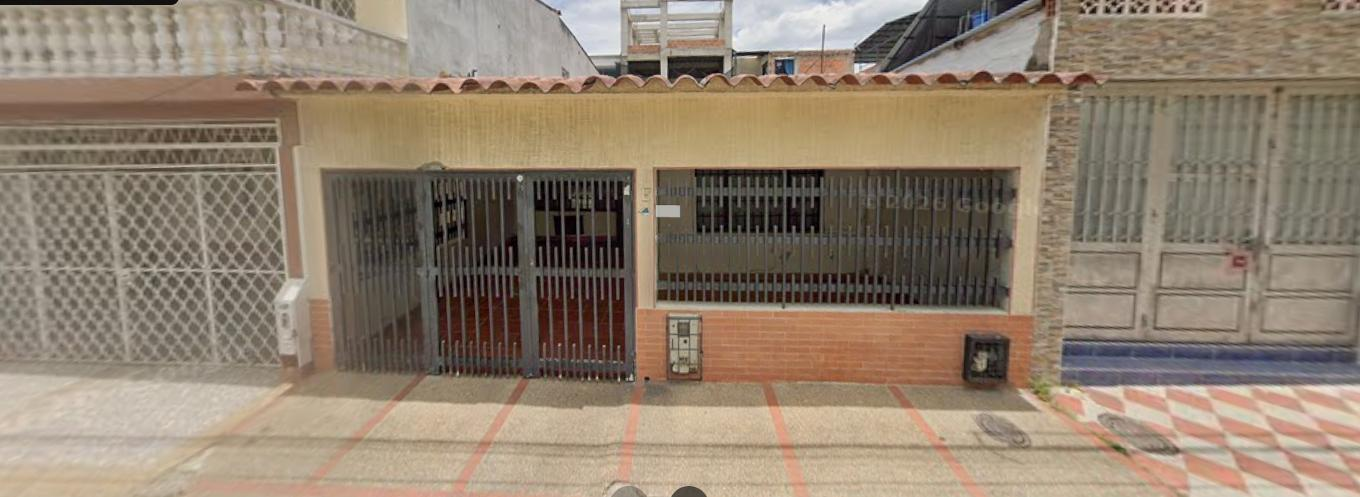casa: (237, 70, 1103, 385), (880, 0, 1359, 384)
